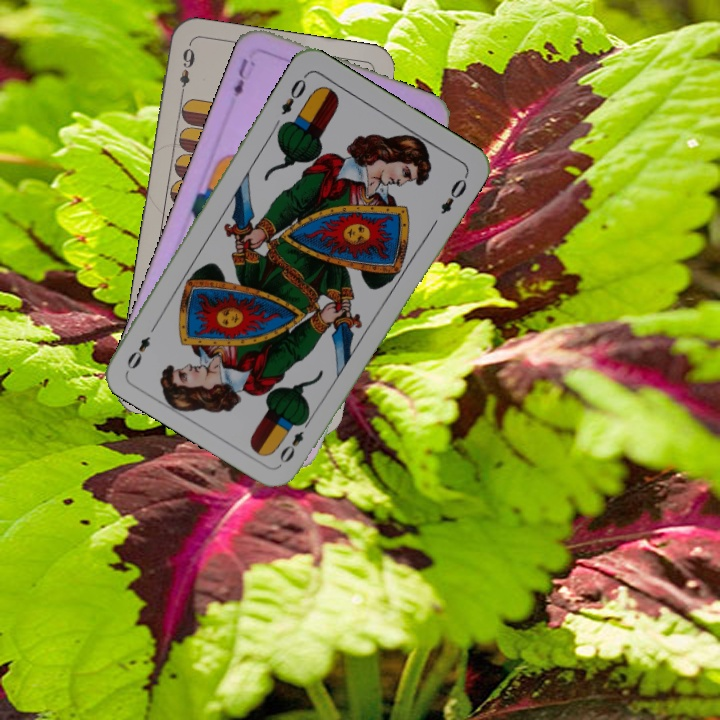E9: (175, 41, 198, 100)
EO: (275, 412, 314, 466), (277, 70, 310, 118)
EU: (229, 54, 251, 100)
